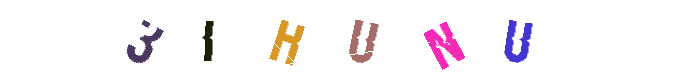0: (307, 0, 387, 80)
3: (129, 0, 209, 80)
H: (304, 0, 384, 80)
N: (404, 0, 484, 80)
T: (247, 0, 327, 80)
U: (477, 0, 557, 80)
